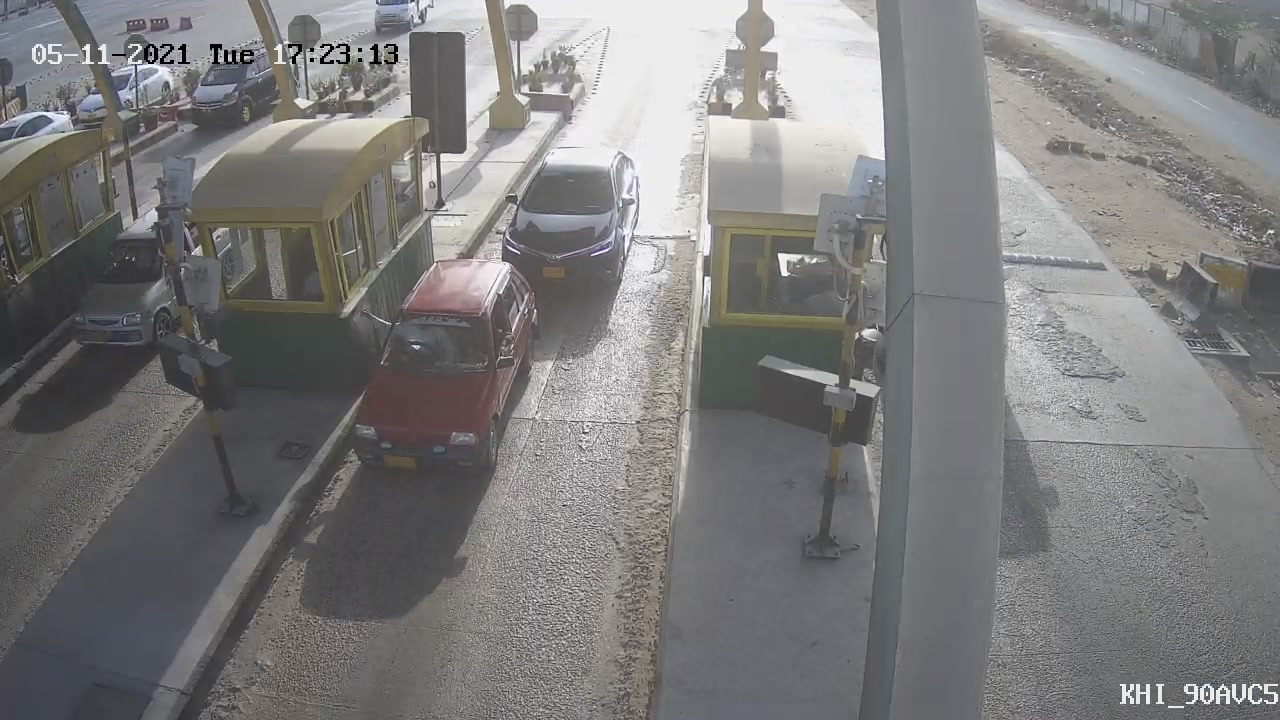F1: (330, 246, 556, 492), (478, 130, 655, 301)
